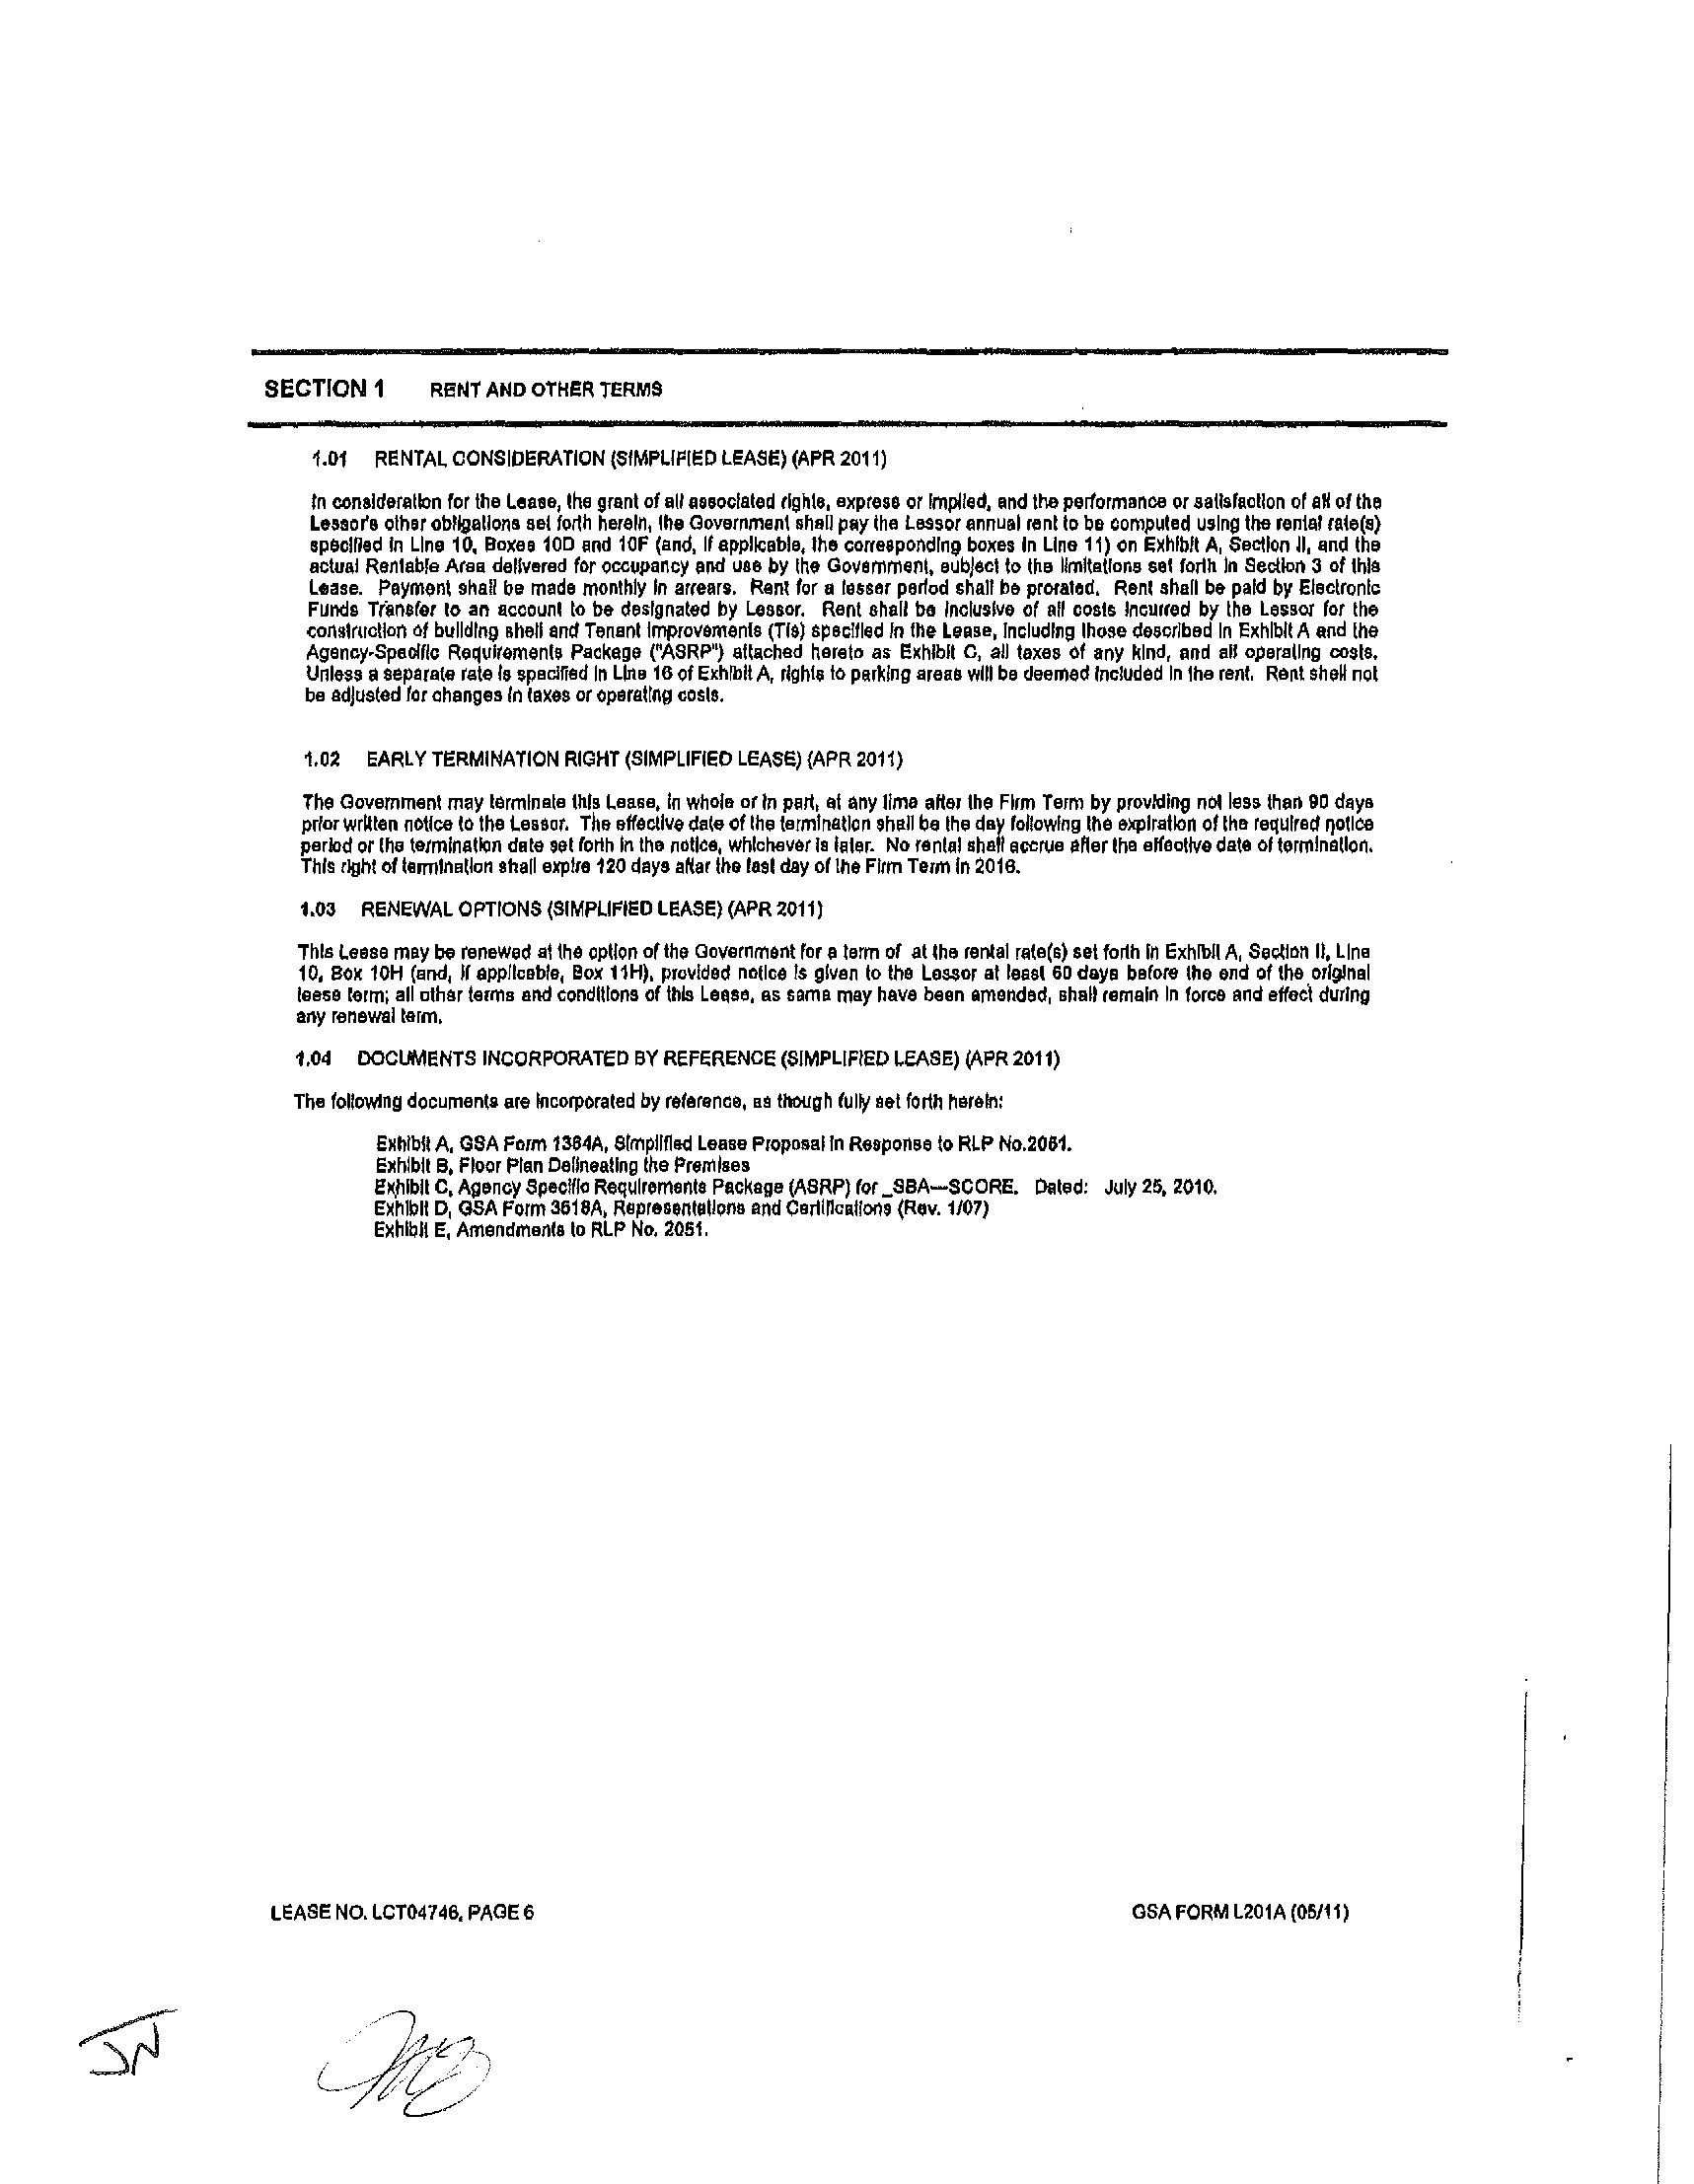handwritten: (287, 1985, 539, 2122), (50, 1998, 188, 2099)
